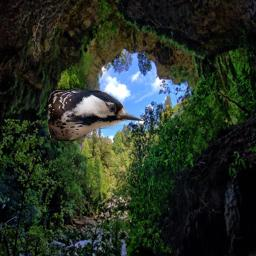Woodpecker: (48, 84, 143, 143)
